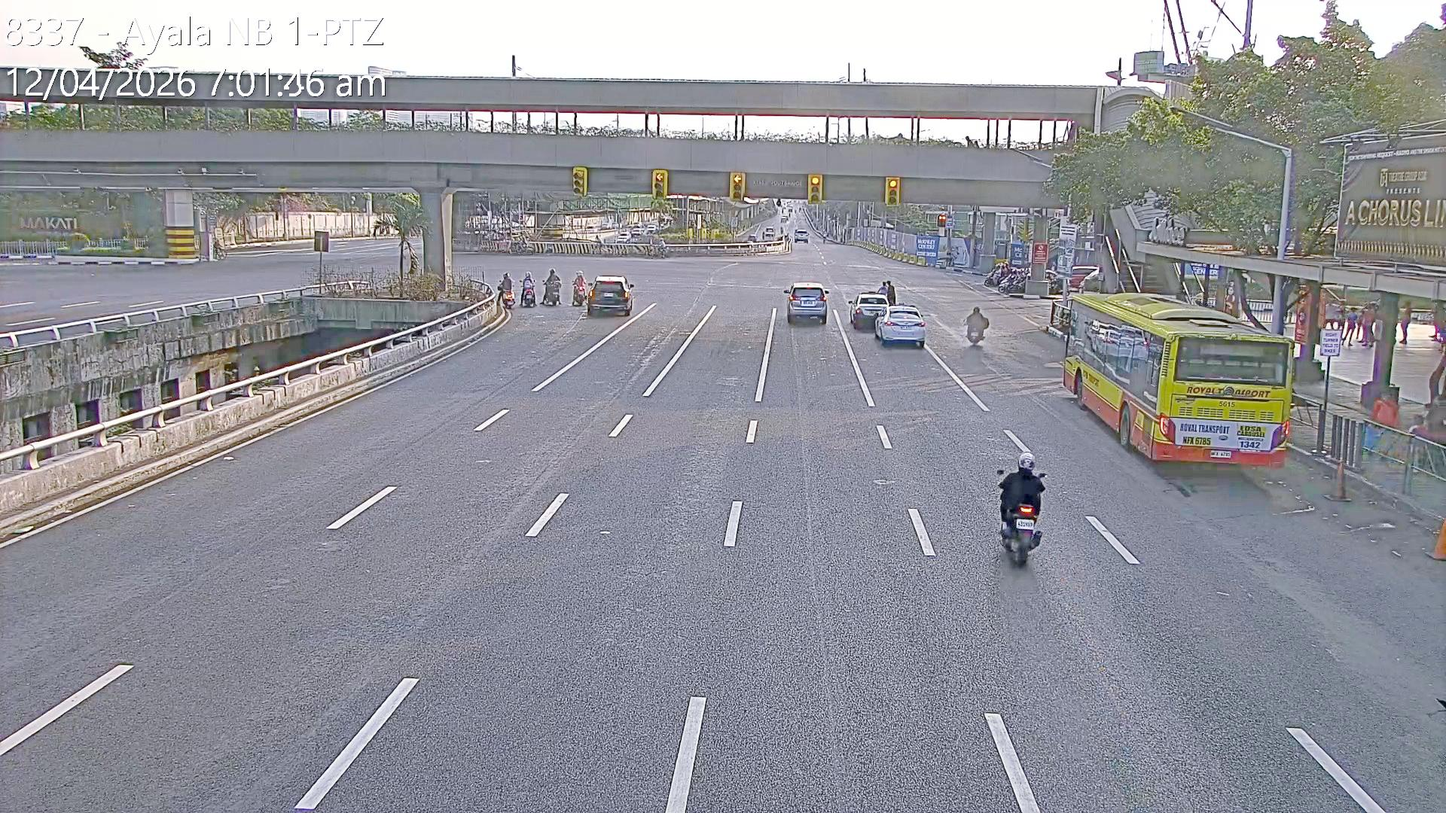Car: (874, 305, 926, 348), (586, 274, 635, 318), (784, 282, 828, 325), (849, 291, 890, 330)
Motor: (998, 460, 1054, 559), (570, 264, 591, 310), (542, 264, 564, 306), (966, 311, 990, 348), (516, 271, 538, 311), (496, 279, 513, 309)
Not Accident: (852, 289, 925, 350), (497, 264, 590, 309)
